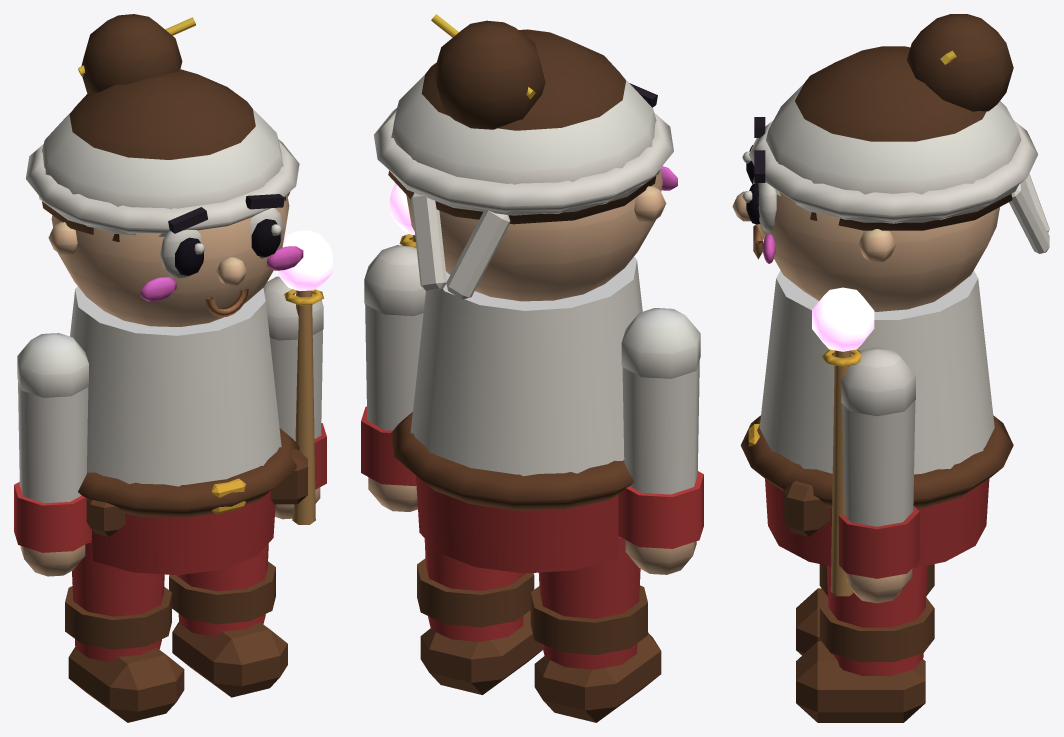
The model's file is hero_tamsin.glb.
The picture shows the model from 3 angles, left to right: view 1: azimuth 30°, elevation 25°; view 2: azimuth 150°, elevation 25°; view 3: azimuth 270°, elevation 25°; orthographic projection. The views are drawn at different scales.
Parts seen in each view (by area): view 1: body_t0_palette, arml_t0_palette, legl_t0_palette, legr_t0_palette, armr_t0_palette, armr_t0_glow_pink; view 2: body_t0_palette, arml_t0_palette, legl_t0_palette, legr_t0_palette, armr_t0_palette, armr_t0_glow_pink; view 3: body_t0_palette, armr_t0_palette, legr_t0_palette, armr_t0_glow_pink, legl_t0_palette.
Boxes of the visible parts, box(x1,y1,x2,y2) form: body_t0_palette: box(26, 14, 307, 575); arml_t0_palette: box(14, 333, 91, 576); legl_t0_palette: box(65, 542, 184, 722); legr_t0_palette: box(169, 543, 287, 697); armr_t0_palette: box(263, 276, 326, 524); armr_t0_glow_pink: box(277, 230, 332, 291); body_t0_palette: box(374, 14, 677, 573); arml_t0_palette: box(618, 308, 703, 574); legl_t0_palette: box(530, 537, 661, 722); legr_t0_palette: box(417, 538, 542, 694); armr_t0_palette: box(361, 234, 425, 511); armr_t0_glow_pink: box(390, 183, 414, 235); body_t0_palette: box(732, 14, 1049, 568); armr_t0_palette: box(821, 347, 919, 603); legr_t0_palette: box(796, 565, 934, 722); armr_t0_glow_pink: box(812, 287, 874, 351); legl_t0_palette: box(796, 564, 934, 655).
Bounding box in the file's own units: 0.27 × 0.54 × 0.2322.
